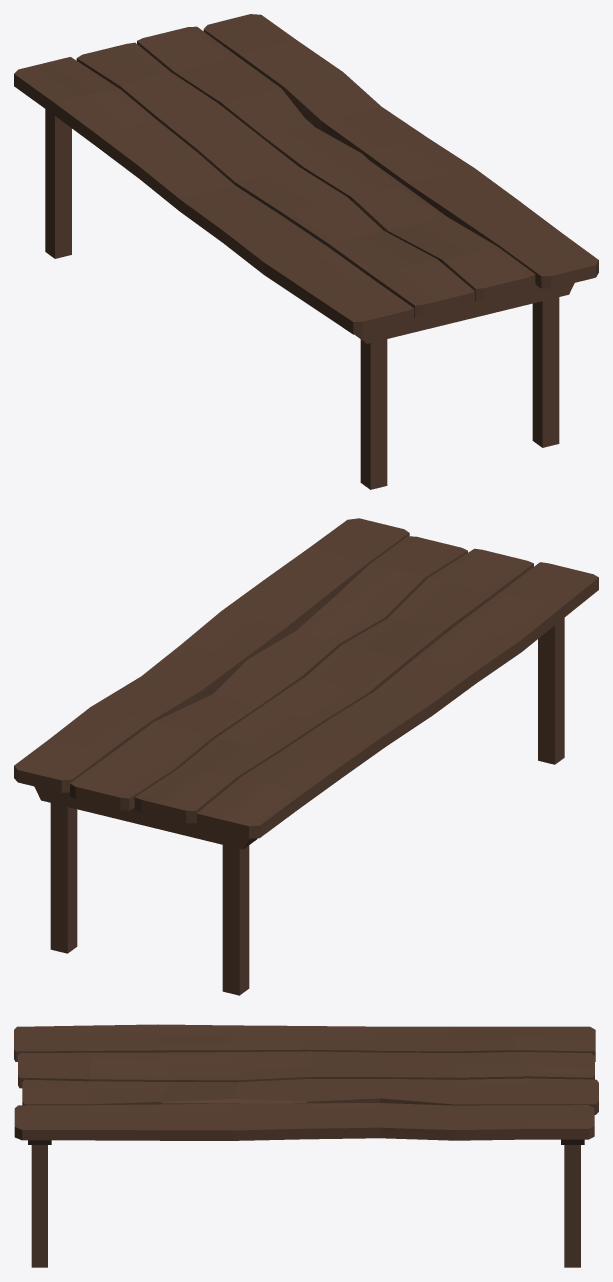
The model's file is Table.fbx.
3 views of the same model, one above another, from view 1: azimuth 30°, elevation 25°; view 2: azimuth 150°, elevation 25°; view 3: azimuth 270°, elevation 25° (orthographic). The views are drawn at different scales.
Visible parts, largest first — view 1: Cube; view 2: Cube; view 3: Cube.
Part boxes in pixels (x1,y1,x2,y2): Cube: (14, 14, 598, 489); Cube: (14, 518, 598, 995); Cube: (14, 1024, 598, 1267).
Bounding box in the file's own units: 85.46 × 58.59 × 201.
